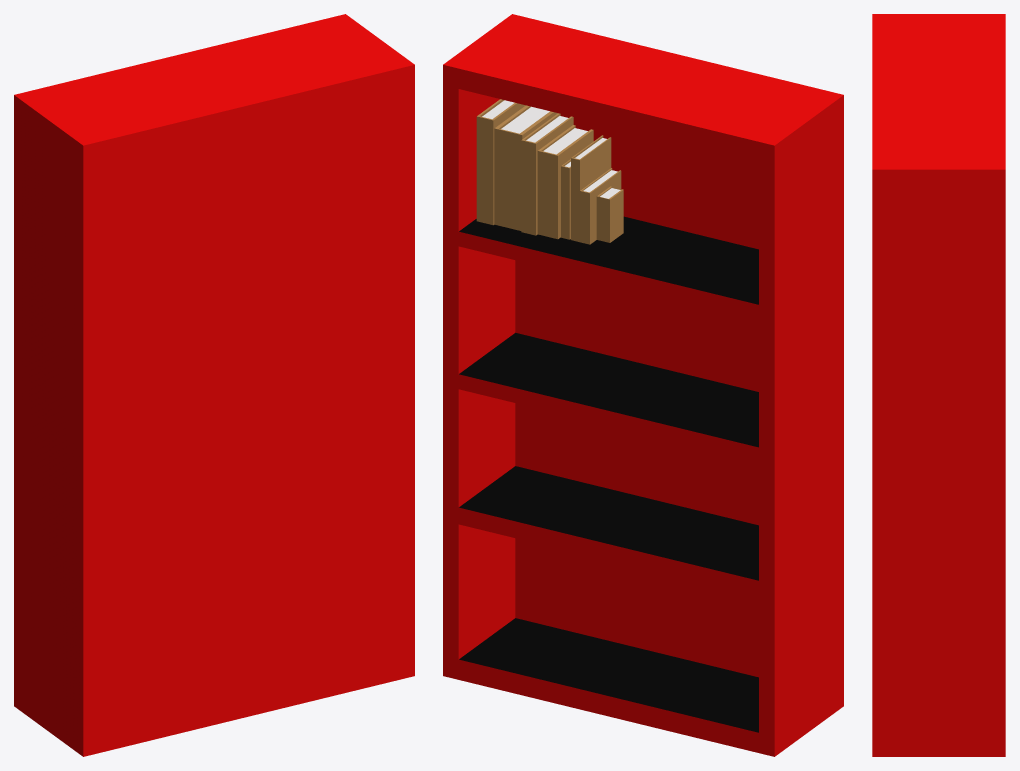
The picture shows the model from 3 angles, left to right: view 1: azimuth 30°, elevation 25°; view 2: azimuth 150°, elevation 25°; view 3: azimuth 270°, elevation 25°; orthographic projection. The views are drawn at different scales.
Visible parts, largest first — view 1: mesh3_mesh3-geometry; view 2: mesh3_mesh3-geometry, mesh3_mesh3-geometry_2, mesh1_mesh1-geometry_3, mesh1_mesh1-geometry_7, mesh1_mesh1-geometry_1, mesh1_mesh1-geometry_5, mesh1_mesh1-geometry_11, mesh1_mesh1-geometry_13, mesh1_mesh1-geometry_15, mesh1_mesh1-geometry_9; view 3: mesh3_mesh3-geometry.
Boxes of the visible parts, x1,y1,x2,y2 form: mesh3_mesh3-geometry: [14, 14, 414, 756]; mesh3_mesh3-geometry: [443, 14, 843, 756]; mesh3_mesh3-geometry_2: [459, 216, 758, 732]; mesh1_mesh1-geometry_3: [494, 105, 557, 230]; mesh1_mesh1-geometry_7: [537, 125, 593, 239]; mesh1_mesh1-geometry_1: [476, 99, 525, 225]; mesh1_mesh1-geometry_5: [521, 113, 573, 235]; mesh1_mesh1-geometry_11: [571, 135, 611, 242]; mesh1_mesh1-geometry_13: [580, 168, 621, 244]; mesh1_mesh1-geometry_15: [596, 186, 623, 242]; mesh1_mesh1-geometry_9: [561, 159, 570, 239]; mesh3_mesh3-geometry: [872, 14, 1005, 756].
Size of the model in its own units: 0.486 by 0.856 by 0.176.
